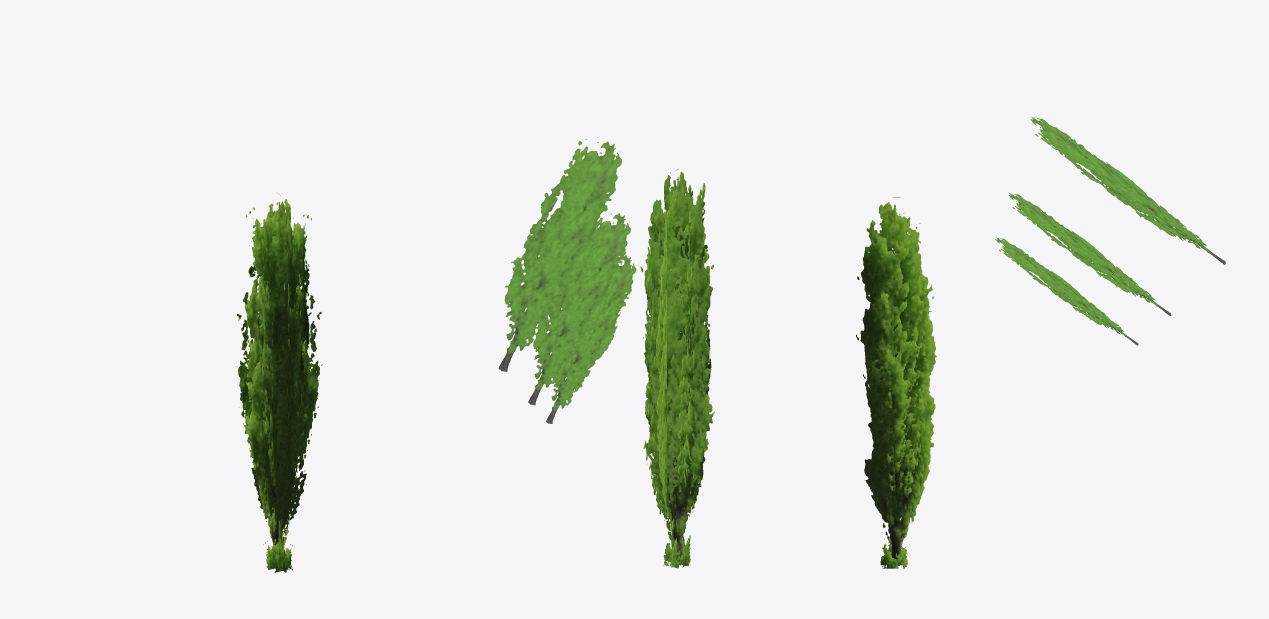
Rendered from tree-impo2C.glb.
The picture shows the model from 3 angles, left to right: view 1: azimuth 30°, elevation 25°; view 2: azimuth 150°, elevation 25°; view 3: azimuth 270°, elevation 25°; orthographic projection. The views are drawn at different scales.
Visible parts, largest first — view 1: size3.008, size3.002, size3.012, size2.018, size3.003, size3.011, size3.010, size1.027, size2.022, size2.015, size1.030, size2.006; view 2: size3.shadow, size2.shadow.001, size3.007, size3.001, size1.shadow.002, size1.025, size3.012, size2.005, size3.003, size2.017, size1.027, size3.011 (+2 smaller); view 3: size3.004, size3.013, size3.shadow, size2.shadow.001, size2.023, size1.shadow.002, size1.035.
Part boxes in pixels (<box>): size3.008: <box>263,214,322,510</box>; size3.002: <box>243,199,307,545</box>; size3.012: <box>249,218,277,505</box>; size2.018: <box>265,274,313,521</box>; size3.003: <box>272,195,299,539</box>; size3.011: <box>289,225,309,484</box>; size3.010: <box>235,207,293,486</box>; size1.027: <box>278,324,293,553</box>; size2.022: <box>257,281,277,516</box>; size2.015: <box>280,282,295,544</box>; size1.030: <box>267,311,307,526</box>; size2.006: <box>249,278,298,544</box>; size3.shadow: <box>498,139,621,371</box>; size2.shadow.001: <box>528,213,630,405</box>; size3.007: <box>640,211,696,503</box>; size3.001: <box>644,172,714,563</box>; size1.shadow.002: <box>546,255,636,423</box>; size1.025: <box>653,283,704,564</box>; size3.012: <box>676,183,711,491</box>; size2.005: <box>650,245,707,565</box>; size3.003: <box>655,169,692,525</box>; size2.017: <box>646,275,693,514</box>; size1.027: <box>661,289,676,540</box>; size3.011: <box>643,187,671,460</box>; size3.004: <box>856,197,936,564</box>; size3.013: <box>866,232,928,486</box>; size3.shadow: <box>1030,117,1225,264</box>; size2.shadow.001: <box>1008,193,1171,315</box>; size2.023: <box>871,292,923,500</box>; size1.shadow.002: <box>995,237,1138,345</box>; size1.035: <box>875,331,920,508</box>.
Bounding box in the file's own units: 11.56 × 34.3 × 27.49.
Materials: 1 (1 with a texture image).
